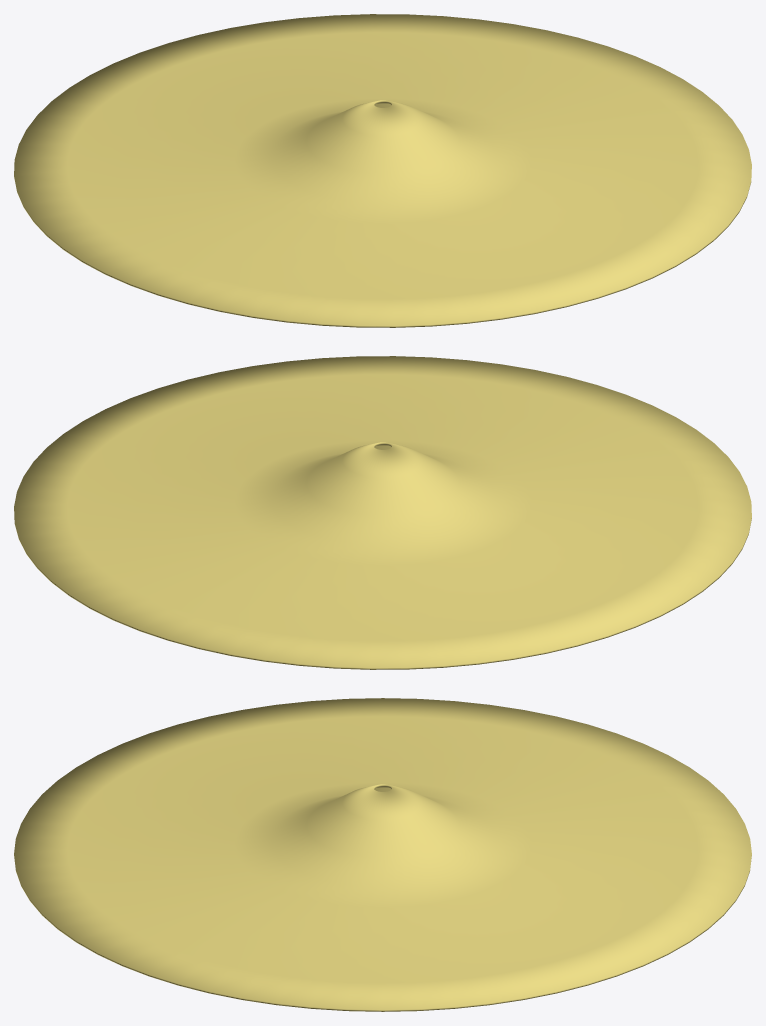
File: High Hat top.fbx
3 views of the same model, one above another, from view 1: azimuth 30°, elevation 25°; view 2: azimuth 150°, elevation 25°; view 3: azimuth 270°, elevation 25° (orthographic).
Visible parts, largest first — view 1: High Hat Top; view 2: High Hat Top; view 3: High Hat Top.
Boxes of the visible parts, box(x1,y1,x2,y2) form: High Hat Top: box(14, 14, 751, 327); High Hat Top: box(14, 356, 751, 669); High Hat Top: box(14, 698, 751, 1011).
Size of the model in its own units: 35 by 3.55 by 35.
